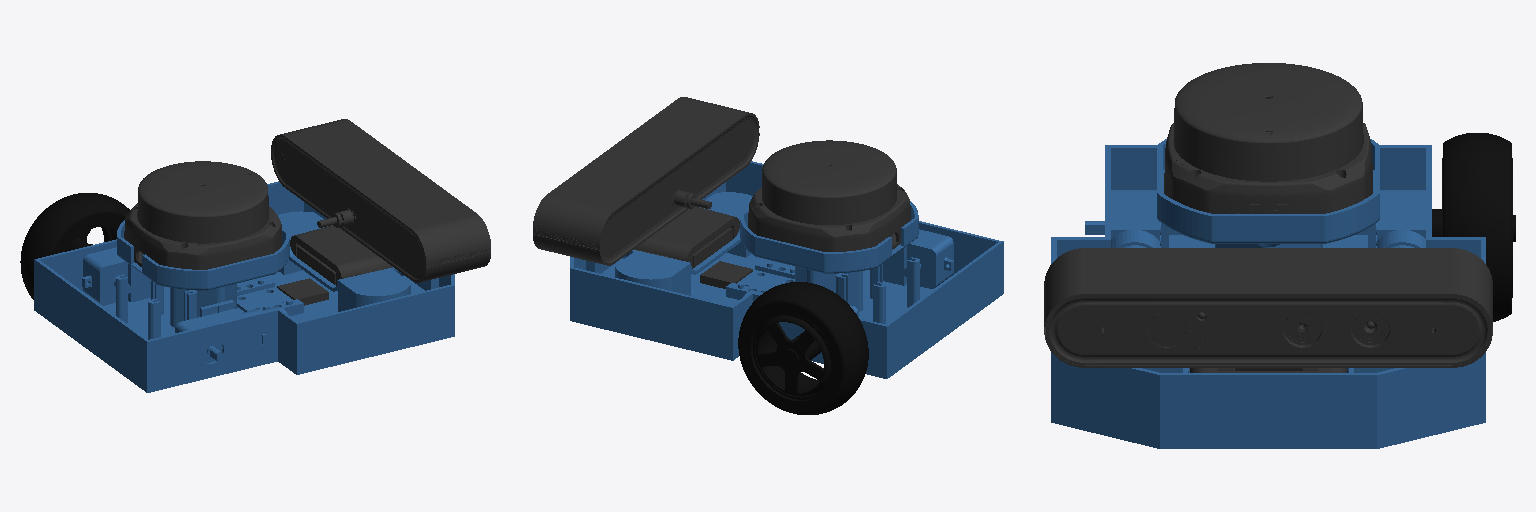
The robot description file, URDF, robot "lidarino":
<?xml version="1.0" ?>
<!-- =================================================================================== -->
<!-- |    This document was autogenerated by xacro from .\lidarino_isaac.urdf.xacro    | -->
<!-- |    EDITING THIS FILE BY HAND IS NOT RECOMMENDED                                 | -->
<!-- =================================================================================== -->
<robot name="lidarino">
  <material name="black">
    <color rgba="0.1 0.1 0.1 1.0"/>
  </material>
  <material name="dark_grey">
    <color rgba="0.25 0.25 0.25 1.0"/>
  </material>
  <material name="matte_orange">
    <color rgba="0.85 0.45 0.15 1.0"/>
  </material>
  <material name="muted_red">
    <color rgba="0.75 0.22 0.17 1.0"/>
  </material>
  <material name="steel_blue">
    <color rgba="0.25 0.45 0.65 1.0"/>
  </material>
  <material name="silver">
    <color rgba="0.75 0.75 0.75 1.0"/>
  </material>
  <link name="base_link">
    <inertial>
      <origin rpy="0.0 0.0 0.0" xyz="-0.0062724127968771535 1.3799035175597654e-08 0.013070827636125267"/>
      <mass value="0.33360490904476603"/>
      <inertia ixx="0.0006347717188410793" ixy="1.476040485669221e-10" ixz="4.795544012819681e-05" iyy="0.0009043843267201054" iyz="-4.135017315855046e-11" izz="0.001435861690423606"/>
    </inertial>
    <visual name="base_link_visual">
      <origin rpy="0.0 0.0 0.0" xyz="0.0 0.0 0.0"/>
      <geometry>
        <mesh filename="package://lidarino_description/urdf/meshes/base_link_s2.stl" scale="0.001 0.001 0.001"/>
      </geometry>
      <material name="steel_blue"/>
    </visual>
    <collision name="base_link_collision">
      <origin rpy="0.0 0.0 0.0" xyz="0.0 0.0 0.015"/>
      <geometry>
        <box size="0.2 0.12 0.03"/>
      </geometry>
    </collision>
  </link>
  <link name="caster">
    <inertial>
      <origin rpy="0.0 0.0 0.0" xyz="0.0 0.0 0.0"/>
      <mass value="0.01"/>
      <inertia ixx="1e-6" ixy="0" ixz="0" iyy="1e-6" iyz="0" izz="1e-6"/>
    </inertial>
    <visual name="caster_visual">
      <origin rpy="0.0 0.0 0.0" xyz="0.0 0.0 0.0"/>
      <geometry>
        <sphere radius="0.008"/>
      </geometry>
      <material name="silver"/>
    </visual>
    <collision name="caster_collision">
      <origin rpy="0.0 0.0 0.0" xyz="0.0 0.0 0.0"/>
      <geometry>
        <sphere radius="0.008"/>
      </geometry>
    </collision>
  </link>
  <link name="wheel_R">
    <inertial>
      <origin rpy="0.0 -0.0 0.0" xyz="3.8589283501977436e-08 3.3503422258718277e-13 -0.017044397508191807"/>
      <mass value="0.0493089812577897"/>
      <inertia ixx="2.1725366580018456e-05" ixy="5.925842498991085e-17" ixz="1.2860682814920879e-11" iyy="2.172573834724608e-05" iyz="1.1233689759665433e-16" izz="3.791921679166611e-05"/>
    </inertial>
    <visual name="wheel_R_visual">
      <origin rpy="-4.72621546065603e-16 -1.1102230246251568e-16 -2.7755575615628926e-17" xyz="1.1368683772161603e-15 1.3322676295501878e-17 0.0"/>
      <geometry>
        <mesh filename="package://lidarino_description/urdf/meshes/wheel_R.stl" scale="0.001 0.001 0.001"/>
      </geometry>
      <material name="black"/>
    </visual>
    <collision name="wheel_R_collision">
      <origin rpy="0 0 0" xyz="0 0 -0.017"/>
      <geometry>
        <sphere radius="0.035"/>
      </geometry>
    </collision>
  </link>
  <link name="wheel_L">
    <inertial>
      <origin rpy="0.0 -0.0 0.0" xyz="3.8589283501977436e-08 3.3503422258718277e-13 -0.017044397508191828"/>
      <mass value="0.0493089812577897"/>
      <inertia ixx="2.17253665800184e-05" ixy="5.927197751706692e-17" ixz="1.2860682842025933e-11" iyy="2.1725738347246244e-05" iyz="1.1234367386023236e-16" izz="3.7919216791666135e-05"/>
    </inertial>
    <visual name="wheel_L_visual">
      <origin rpy="-1.4649353258190343e-16 -1.2470396389907355e-32 -5.551115123125783e-17" xyz="1.1368683772161603e-15 1.1102230246251566e-17 0.0"/>
      <geometry>
        <mesh filename="package://lidarino_description/urdf/meshes/wheel_L.stl" scale="0.001 0.001 0.001"/>
      </geometry>
      <material name="black"/>
    </visual>
    <collision name="wheel_L_collision">
      <origin rpy="0 0 0" xyz="0 0 -0.017"/>
      <geometry>
        <sphere radius="0.035"/>
      </geometry>
    </collision>
  </link>
  <joint name="L_wheel_Revolute" type="continuous">
    <origin rpy="1.5707963267948966 -0.0 0.0" xyz="-0.06 0.06 0.015"/>
    <parent link="base_link"/>
    <child link="wheel_L"/>
    <axis xyz="0.0 0.0 -1.0"/>
    <limit effort="10.0" velocity="20.0"/>
  </joint>
  <joint name="R_wheel_Revolute" type="continuous">
    <origin rpy="-1.5707963267948966 -0.0 0.0" xyz="-0.06 -0.06 0.015"/>
    <parent link="base_link"/>
    <child link="wheel_R"/>
    <axis xyz="0.0 0.0 1.0"/>
    <limit effort="10.0" velocity="20.0"/>
  </joint>
  <joint name="caster_fixed" type="fixed">
    <origin rpy="0.0 0.0 0.0" xyz="0.052 0.0 -0.013"/>
    <parent link="base_link"/>
    <child link="caster"/>
  </joint>
  <link name="astra_link">
    <inertial>
      <origin rpy="0.0 0.0 0.0" xyz="0.021745856967737336 3.8230579211581216e-05 0.029303333814809707"/>
      <mass value="0.23334756462839484"/>
      <inertia ixx="0.00045538823905664865" ixy="1.841447020567419e-07" ixz="9.205395041665818e-06" iyy="7.785663760045297e-05" iyz="-4.2054876695014596e-08" izz="0.00045460807011731756"/>
    </inertial>
    <visual name="astracamera_visual">
      <origin rpy="0.0 0.0 0.0" xyz="0.0 0.0 0.0"/>
      <geometry>
        <mesh filename="package://lidarino_description/urdf/meshes/astracamera.stl" scale="0.001 0.001 0.001"/>
      </geometry>
      <material name="dark_grey"/>
    </visual>
    <collision name="astracamera_collision">
      <origin rpy="0.0 0.0 0.0" xyz="0.02 0.0 0.035"/>
      <geometry>
        <box size="0.04 0.15 0.03"/>
        <!-- <mesh filename="${mesh_url}astracamera.stl" scale="0.001 0.001 0.001" /> -->
      </geometry>
    </collision>
  </link>
  <joint name="astra_joint" type="fixed">
    <parent link="base_link"/>
    <child link="astra_link"/>
    <origin rpy="0 0 3.141592653589793" xyz="0.098 0.0 0.013"/>
  </joint>
  <link name="astra_optical_frame"/>
  <joint name="astra_optical_joint" type="fixed">
    <parent link="astra_link"/>
    <child link="astra_optical_frame"/>
    <origin rpy="0 0 3.141592653589793" xyz="0 0 0.032"/>
  </joint>
  <gazebo reference="astra_optical_frame">
    <sensor name="astra_pro" type="rgbd_camera">
      <topic>/astra/camera</topic>
      <always_on>true</always_on>
      <update_rate>5.0</update_rate>
      <camera>
        <horizontal_fov>1.047</horizontal_fov>
        <image>
          <width>640</width>
          <height>480</height>
          <format>R8G8B8</format>
        </image>
        <clip>
          <near>0.1</near>
          <far>8.0</far>
        </clip>
      </camera>
      <gz_frame_id>astra_optical_frame</gz_frame_id>
    </sensor>
  </gazebo>
  <link name="rplidars2_link">
    <inertial>
      <origin rpy="0.0 0.0 0.0" xyz="-4.876953214253547e-05 6.129273590973731e-06 0.015121950727028356"/>
      <mass value="0.2610121235316497"/>
      <inertia ixx="0.00018781372994948866" ixy="1.2883857858081062e-08" ixz="4.40529556879255e-07" iyy="0.0001855239755116742" iyz="-2.488761129977374e-09" izz="0.0002891065425456664"/>
    </inertial>
    <visual name="lidar_visual">
      <origin rpy="0.0 0.0 0.0" xyz="0.0 0.0 0.0"/>
      <geometry>
        <mesh filename="package://lidarino_description/urdf/meshes/RPLIDARS2.stl" scale="0.001 0.001 0.001"/>
      </geometry>
      <material name="dark_grey"/>
    </visual>
    <collision name="lidar_collision">
      <origin rpy="0.0 0.0 0.0" xyz="0.0 0.0 0.03"/>
      <geometry>
        <cylinder length="0.02" radius="0.035"/>
        <!-- <mesh filename="${mesh_url}RPLIDARS2.stl" scale="0.001 0.001 0.001" /> -->
      </geometry>
    </collision>
  </link>
  <joint name="rplidars2_joint" type="fixed">
    <parent link="base_link"/>
    <child link="rplidars2_link"/>
    <origin rpy="0 0 0" xyz="-0.031 0.0 0.043"/>
  </joint>
  <link name="rplidars2_laser_link"/>
  <joint name="rplidars2_laser_joint" type="fixed">
    <parent link="rplidars2_link"/>
    <child link="rplidars2_laser_link"/>
    <origin rpy="0.0 0.0 0.0" xyz="0.0 0.0 0.03"/>
  </joint>
  <gazebo reference="rplidars2_laser_link">
    <sensor name="rplidar_s2" type="gpu_lidar">
      <topic>/scan</topic>
      <always_on>true</always_on>
      <visualize>false</visualize>
      <update_rate>10.0</update_rate>
      <gz_frame_id>rplidars2_laser_link</gz_frame_id>
      <ray>
        <scan>
          <horizontal>
            <samples>1000</samples>
            <resolution>1.0</resolution>
            <min_angle>-3.14159</min_angle>
            <max_angle>3.14159</max_angle>
          </horizontal>
        </scan>
        <range>
          <min>0.08</min>
          <max>30.0</max>
          <resolution>0.013</resolution>
        </range>
        <noise>
          <type>gaussian</type>
          <mean>0.0</mean>
          <stddev>0.01</stddev>
        </noise>
      </ray>
    </sensor>
  </gazebo>
  <link name="imu_link">
    <inertial>
      <!-- IMU reale tipica: pochi grammi, trascurabile dal punto di vista
                     inerziale ma serve comunque un inertial valido per KDL/ros2_control -->
      <origin rpy="0 0 0" xyz="0 0 0"/>
      <mass value="0.01"/>
      <inertia ixx="1e-6" ixy="0.0" ixz="0.0" iyy="1e-6" iyz="0.0" izz="1e-6"/>
    </inertial>
    <visual name="imu_visual">
      <origin rpy="0 0 0" xyz="0 0 0"/>
      <geometry>
        <box size="0.02 0.02 0.005"/>
      </geometry>
      <material name="dark_grey"/>
    </visual>
    <collision name="imu_collision">
      <origin rpy="0 0 0" xyz="0 0 0"/>
      <geometry>
        <box size="0.02 0.02 0.005"/>
      </geometry>
    </collision>
  </link>
  <joint name="imu_joint" type="fixed">
    <parent link="base_link"/>
    <child link="imu_link"/>
    <origin rpy="0 0 0" xyz="0.03 0.0 0.004"/>
  </joint>
  <gazebo reference="imu_link">
    <sensor name="imu_sensor" type="imu">
      <topic>/imu</topic>
      <always_on>true</always_on>
      <update_rate>100.0</update_rate>
      <gz_frame_id>imu_link</gz_frame_id>
      <imu>
        <!--
                        Rumore realistico: senza questo i valori sarebbero perfetti e
                        l'EKF di robot_localization non avrebbe nulla da "fondere" in modo
                        sensato — i pesi del filtro si baserebbero su covarianze finte.
                        Valori tipici per un IMU MEMS economico (es. MPU6050 / BNO055-class).
                    -->
        <angular_velocity>
          <x>
            <noise type="gaussian">
              <mean>0.0</mean>
              <stddev>0.0003</stddev>
              <bias_mean>0.0000075</bias_mean>
              <bias_stddev>0.0000008</bias_stddev>
            </noise>
          </x>
          <y>
            <noise type="gaussian">
              <mean>0.0</mean>
              <stddev>0.0003</stddev>
              <bias_mean>0.0000075</bias_mean>
              <bias_stddev>0.0000008</bias_stddev>
            </noise>
          </y>
          <z>
            <noise type="gaussian">
              <mean>0.0</mean>
              <stddev>0.0003</stddev>
              <bias_mean>0.0000075</bias_mean>
              <bias_stddev>0.0000008</bias_stddev>
            </noise>
          </z>
        </angular_velocity>
        <linear_acceleration>
          <x>
            <noise type="gaussian">
              <mean>0.0</mean>
              <stddev>0.017</stddev>
              <bias_mean>0.1</bias_mean>
              <bias_stddev>0.001</bias_stddev>
            </noise>
          </x>
          <y>
            <noise type="gaussian">
              <mean>0.0</mean>
              <stddev>0.017</stddev>
              <bias_mean>0.1</bias_mean>
              <bias_stddev>0.001</bias_stddev>
            </noise>
          </y>
          <z>
            <noise type="gaussian">
              <mean>0.0</mean>
              <stddev>0.017</stddev>
              <bias_mean>0.1</bias_mean>
              <bias_stddev>0.001</bias_stddev>
            </noise>
          </z>
        </linear_acceleration>
      </imu>
    </sensor>
  </gazebo>
  <!-- 
         =========================================================
         ESCLUSI APPOSITAMENTE PER ISAAC SIM:
         <xacro:include filename="lidarino_gazebo.xacro" />
         <xacro:include filename="lidarino_ros2_control.xacro" />
         =========================================================
         Motivo: Isaac Sim ignora i plugin Gazebo e gestirà i 
         motori e l'odometria tramite OmniGraph (Differential Controller).
    -->
</robot>

--- Facts derived from the render (not from the file) ---
The picture shows the robot from 3 angles, left to right: view 1: azimuth 30°, elevation 25°; view 2: azimuth 150°, elevation 25°; view 3: azimuth 270°, elevation 25°; orthographic projection.
Robot: lidarino — 9 links, 8 joints (2 continuous, 6 fixed); root link base_link; default pose: every joint at zero.
Visible links, largest first — view 1: base_link, astra_link, rplidars2_link, wheel_L, imu_link; view 2: base_link, astra_link, rplidars2_link, wheel_L, imu_link; view 3: base_link, astra_link, rplidars2_link, wheel_L.
Boxes of the visible links, <box> form: base_link: <box>34,181,454,392</box>; astra_link: <box>271,119,490,285</box>; rplidars2_link: <box>124,161,281,269</box>; wheel_L: <box>20,193,129,299</box>; imu_link: <box>277,278,328,305</box>; base_link: <box>570,161,1003,378</box>; astra_link: <box>533,97,759,268</box>; rplidars2_link: <box>748,140,910,251</box>; wheel_L: <box>738,282,868,414</box>; imu_link: <box>700,261,752,288</box>; base_link: <box>1051,139,1485,448</box>; astra_link: <box>1044,248,1492,372</box>; rplidars2_link: <box>1164,63,1372,213</box>; wheel_L: <box>1432,133,1515,321</box>.
Bounding box of the posed robot: 0.2 × 0.1732 × 0.1027 m (x, y, z).
4 mesh visuals loaded from 5 distinct referenced files (4 binary STL); not drawn: 1 (file found but could not be loaded).
